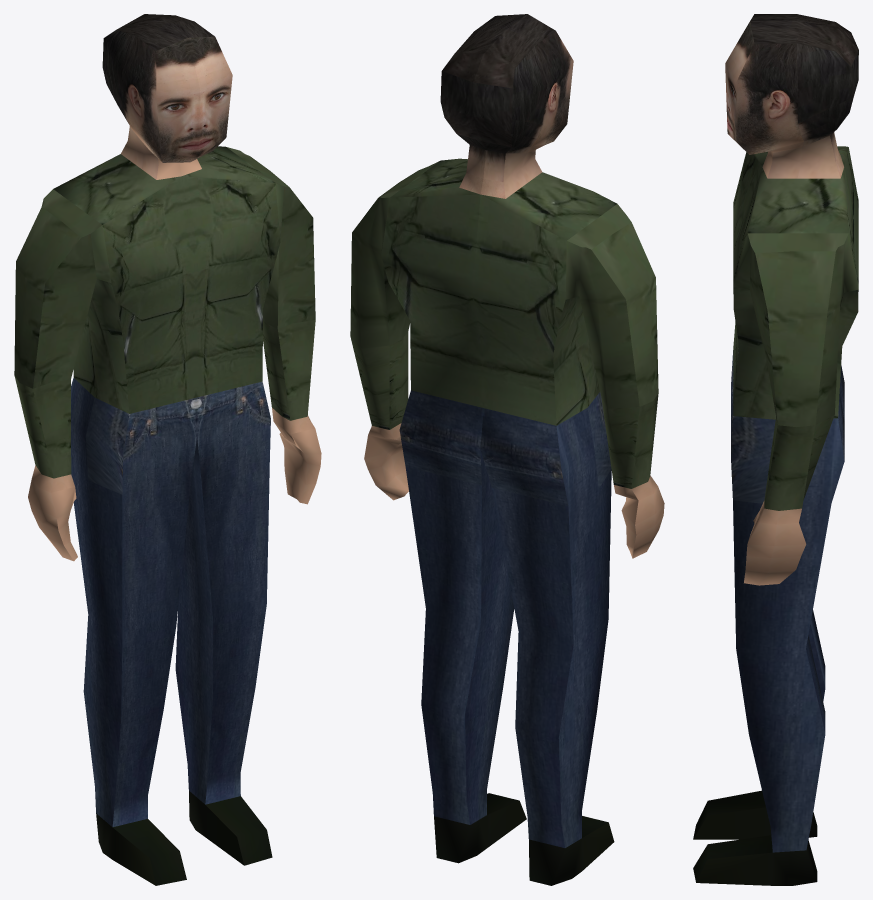
The model's file is Enemy.fbx.
The picture shows the model from 3 angles, left to right: view 1: azimuth 30°, elevation 25°; view 2: azimuth 150°, elevation 25°; view 3: azimuth 270°, elevation 25°; orthographic projection. The views are drawn at different scales.
Parts seen in each view (by area): view 1: HumanRight; view 2: HumanRight; view 3: HumanRight.
Part boxes in pixels (left/top/right/bottom): HumanRight: left=14, top=14, right=321, bottom=885; HumanRight: left=350, top=14, right=664, bottom=885; HumanRight: left=693, top=14, right=858, bottom=885.
Size of the model in its own units: 244 by 655 by 118.
Materials: 1 (1 with a texture image).
